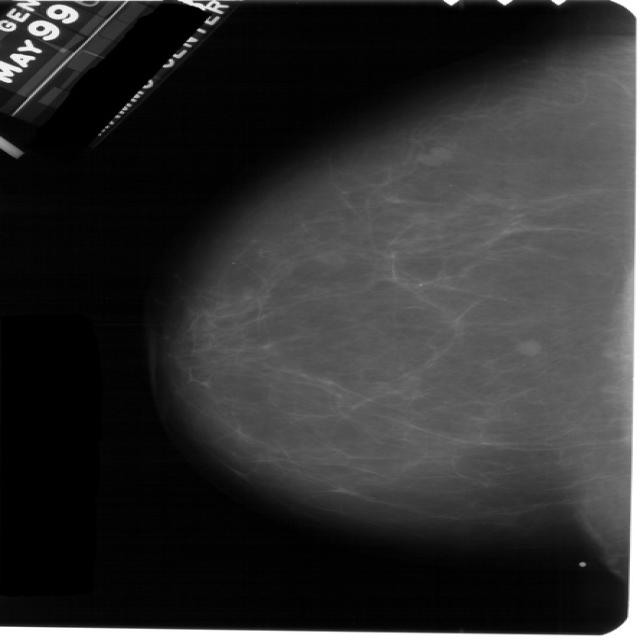tumour: (510, 338, 541, 355)
